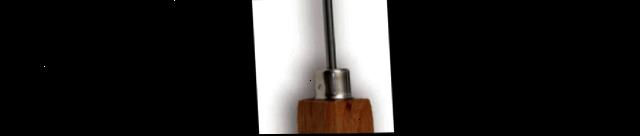ice pick: (290, 0, 372, 134)
